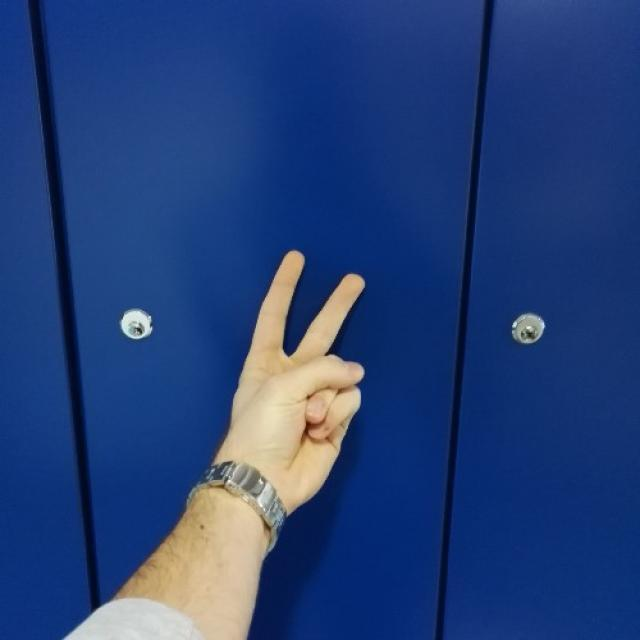scissors: (235, 248, 366, 497)
